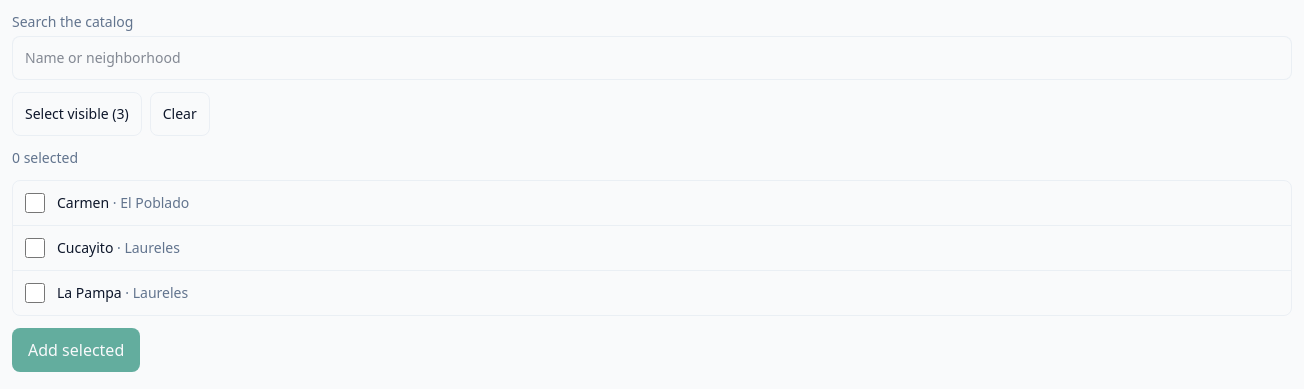
Test: RestaurantPicker › hides the second scope button until a filter hides something
Step 1. Type "car" into the search field with test id "contest-picker-search" → (652,58), box [12,36,1292,80]
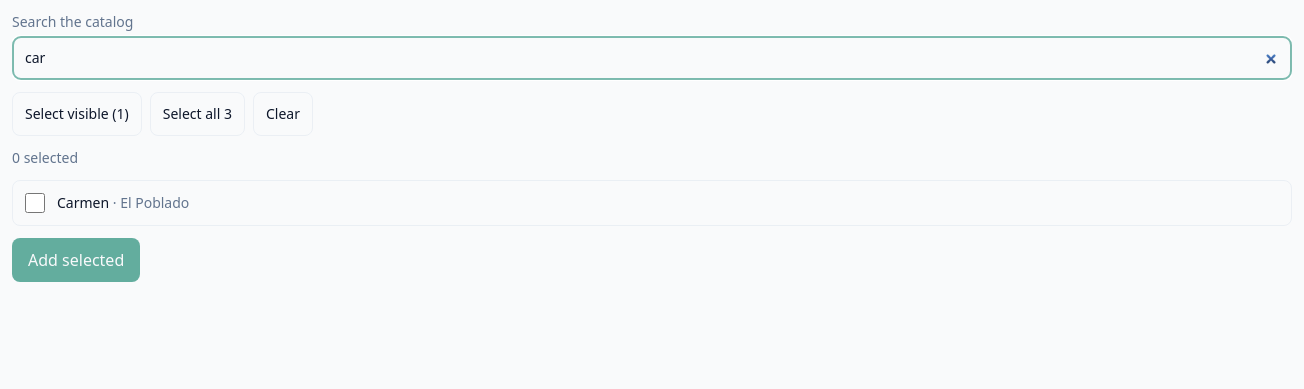
Check: the button with test id "contest-picker-select-all" is shown, box [150,92,245,136]
